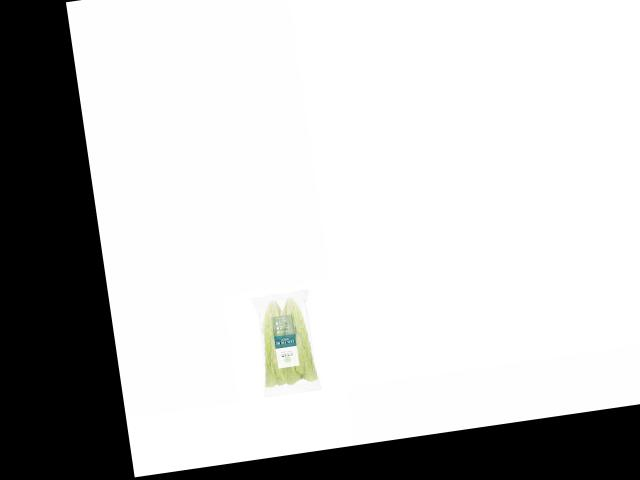lettuce: (253, 293, 325, 391)
